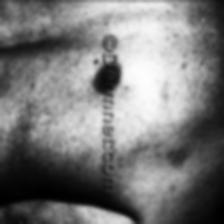Toxin: (92, 64, 106, 96), (114, 62, 124, 89)
